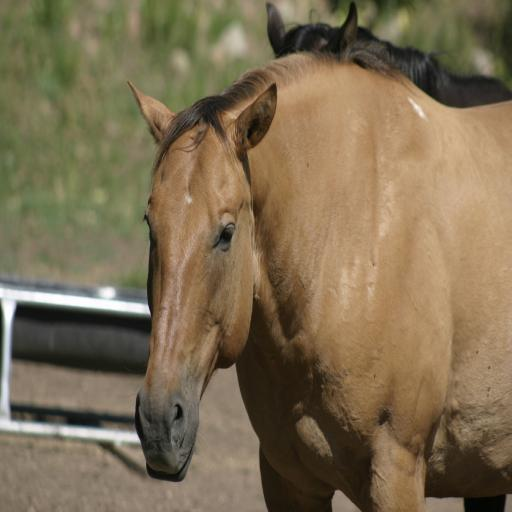horse: (264, 0, 512, 512)
